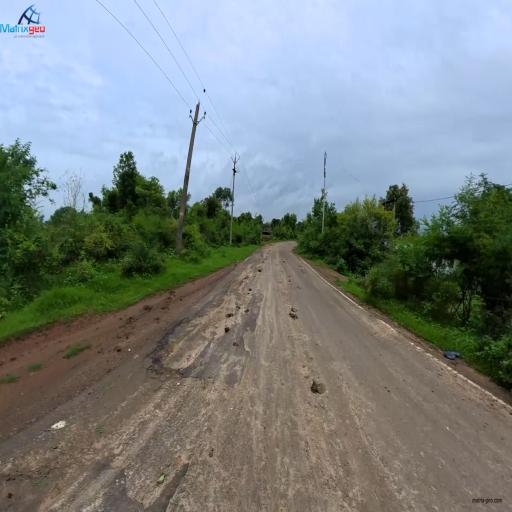ravelling: (175, 344, 292, 487)
